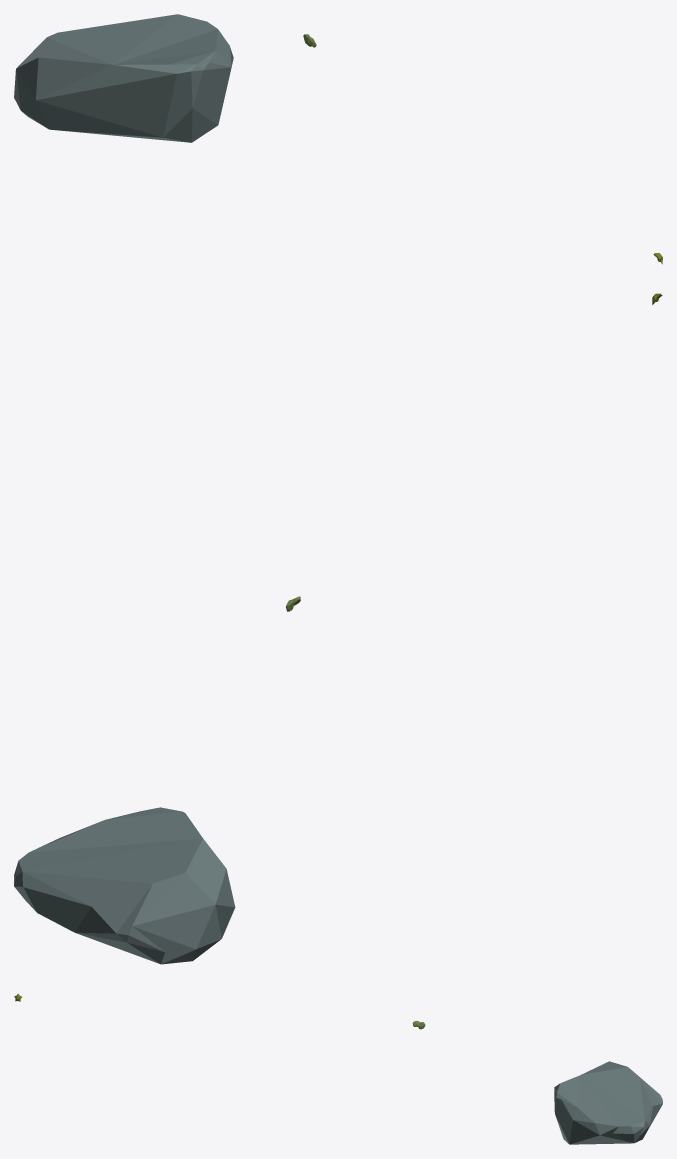
The picture shows the model from 3 angles, top to bottom: view 1: azimuth 30°, elevation 25°; view 2: azimuth 150°, elevation 25°; view 3: azimuth 270°, elevation 25°; orthographic projection. The views are drawn at different scales.
Visible parts, largest first — view 1: Box147_rock_0; view 2: Box147_rock_0; view 3: Box147_rock_0.
Part boxes in pixels (bbox=[...]): Box147_rock_0: bbox=[14, 14, 233, 142]; Box147_rock_0: bbox=[14, 807, 235, 964]; Box147_rock_0: bbox=[554, 1061, 662, 1144].
Size of the model in its own units: 1220 by 1553 by 6146.
